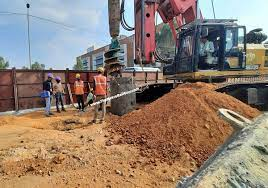arm: (80, 80, 85, 94)
footwear: (44, 110, 52, 116), (55, 107, 61, 112), (61, 106, 67, 111)
helmet: (95, 64, 105, 72), (46, 71, 53, 79), (74, 71, 81, 78), (55, 74, 62, 81)
human: (90, 63, 110, 101), (72, 70, 87, 110), (41, 70, 54, 115), (52, 72, 66, 112)
leg: (100, 100, 107, 123), (44, 96, 52, 115), (59, 93, 67, 112), (54, 93, 61, 113), (92, 104, 99, 122), (75, 93, 82, 110)
novest: (43, 80, 52, 96)
vest: (93, 73, 106, 94), (74, 78, 84, 94), (53, 80, 63, 93)
